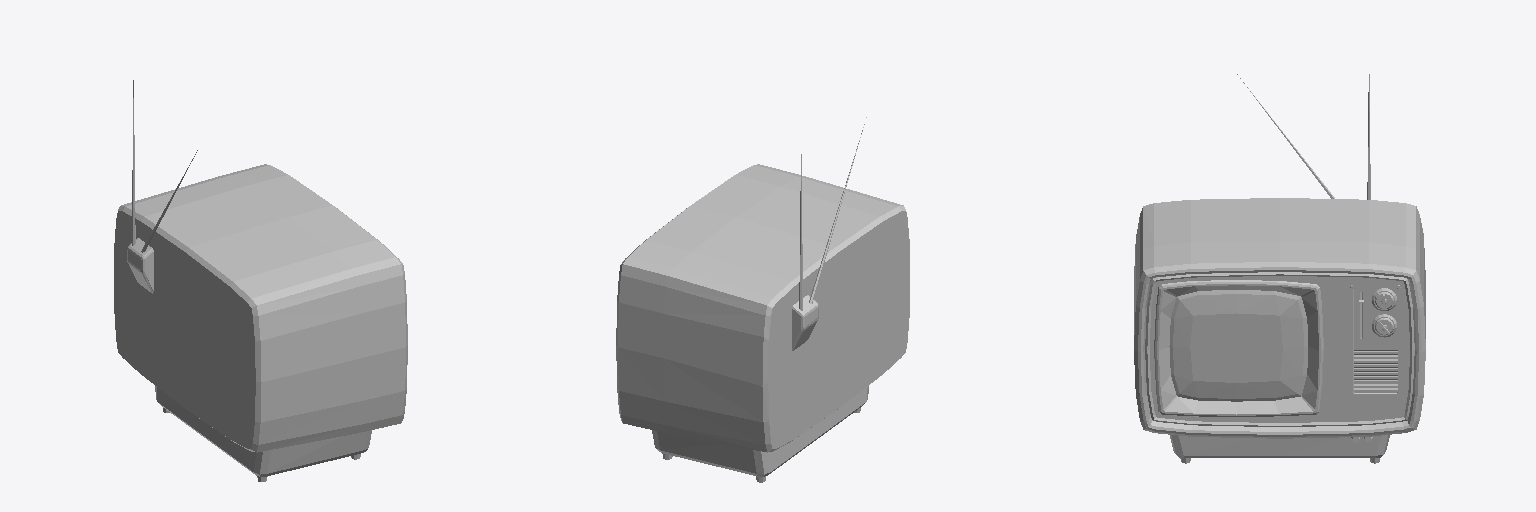
File: television.obj
3 renders of one model, left to right at view 1: azimuth 30°, elevation 25°; view 2: azimuth 150°, elevation 25°; view 3: azimuth 270°, elevation 25°, orthographic.
Parts seen in each view (by area): view 1: Retro_TV; view 2: Retro_TV; view 3: Retro_TV.
Part boxes in pixels (bbox=[...]): Retro_TV: bbox=[114, 80, 407, 481]; Retro_TV: bbox=[616, 117, 909, 482]; Retro_TV: bbox=[1134, 74, 1425, 463].
Size of the model in its own units: 1.8 by 3.75 by 2.76.